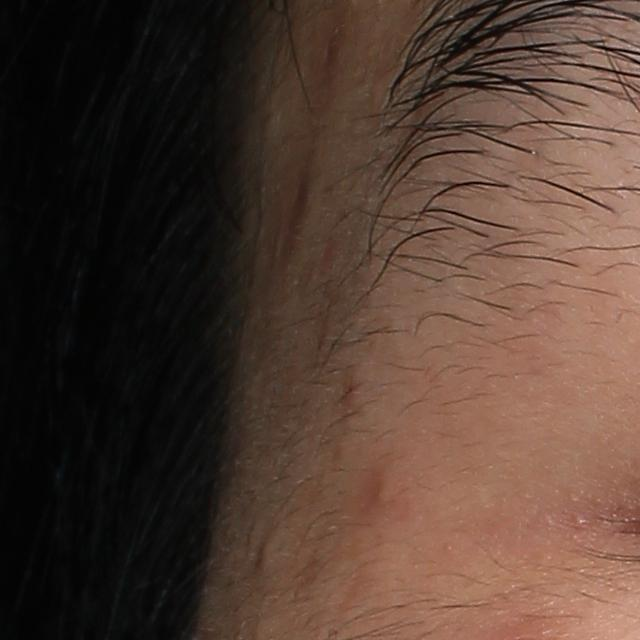papule: (371, 476, 393, 507)
